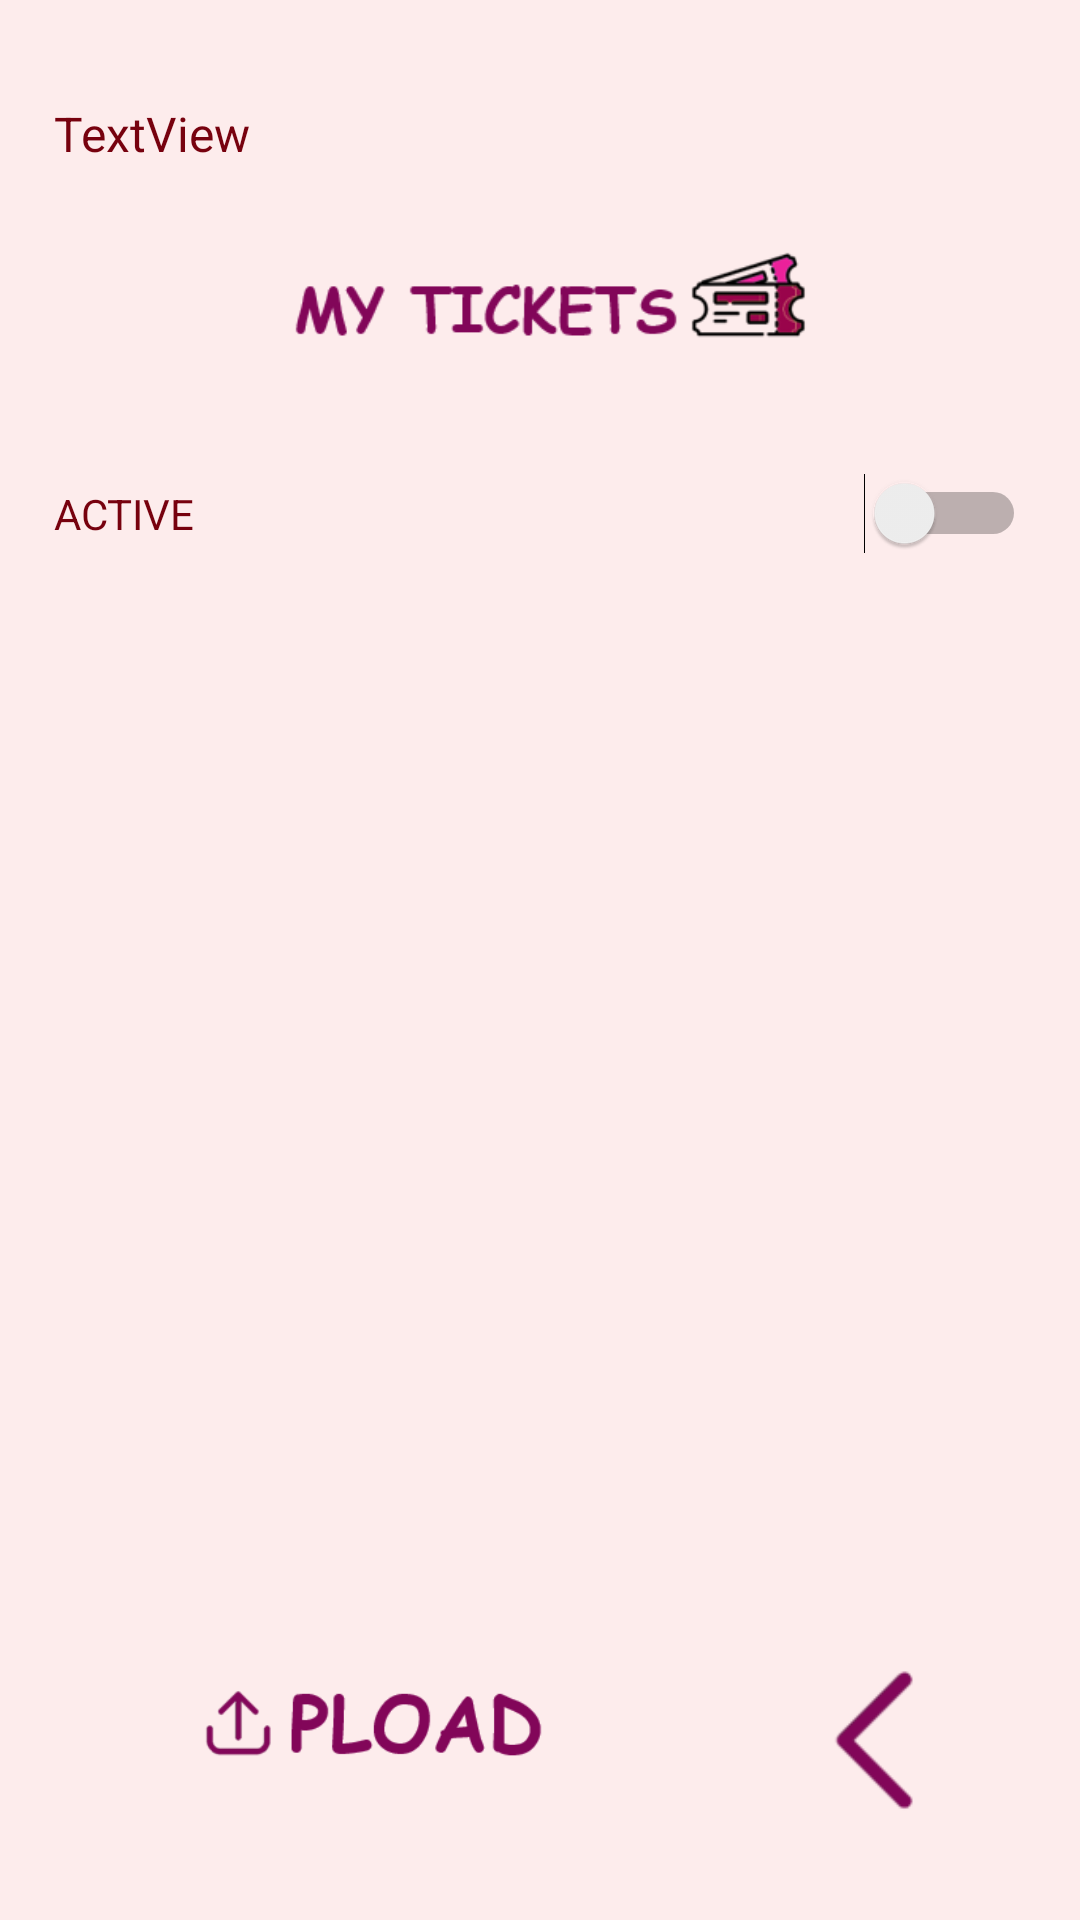

Named icons in this screenshot (1080 x 1920) and their bounding boxes, (x1, y1, x2, y2):
back: (835, 1671, 913, 1809)
